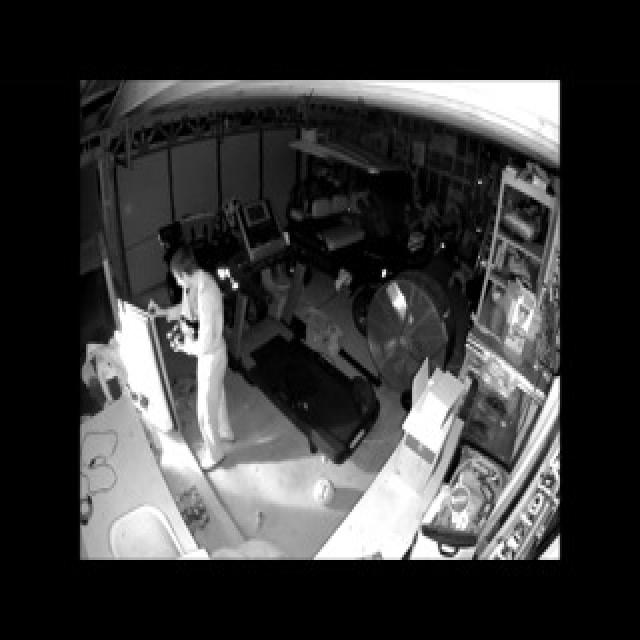thief: (144, 255, 236, 381)
